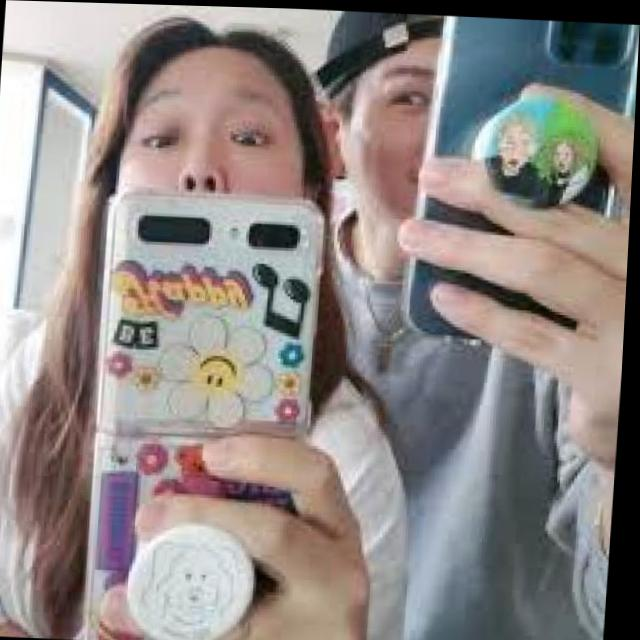Smartphone: (93, 180, 335, 579), (393, 14, 639, 362)
